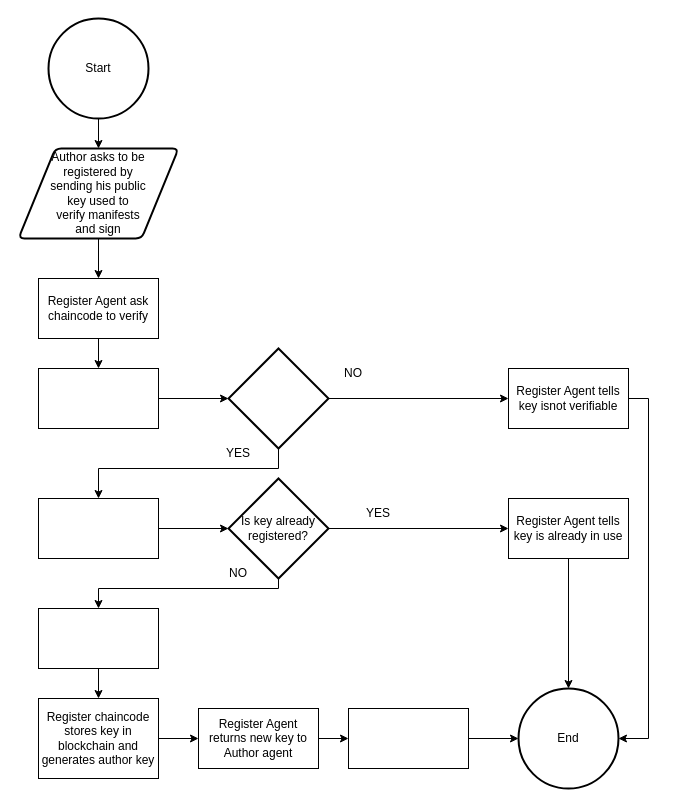
The diagram is 674 pixels wide and 806 high, and some of its shapes have lost their labels. Here are the shapes that lost their labels. From the top down, the centre of each, then its label:
At (x=98, y=398): "Register chaincode verifies key".
At (x=278, y=398): "Is key verifiable?".
At (x=98, y=528): "Register chaincode checks if key is already registed".
At (x=98, y=638): "Register agent ask register chaincode to store key".
At (x=408, y=738): "Author agent stores key in key store".
